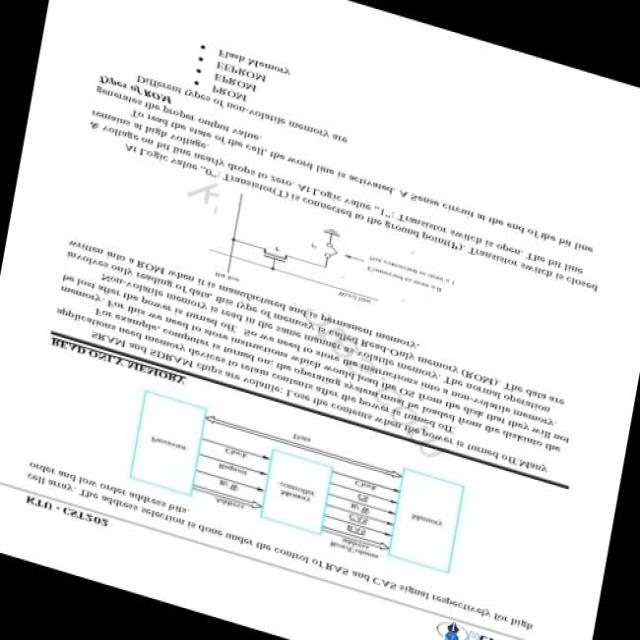Figure Detection - v3 Dataset Version2: (115, 379, 471, 586), (196, 181, 475, 354)
